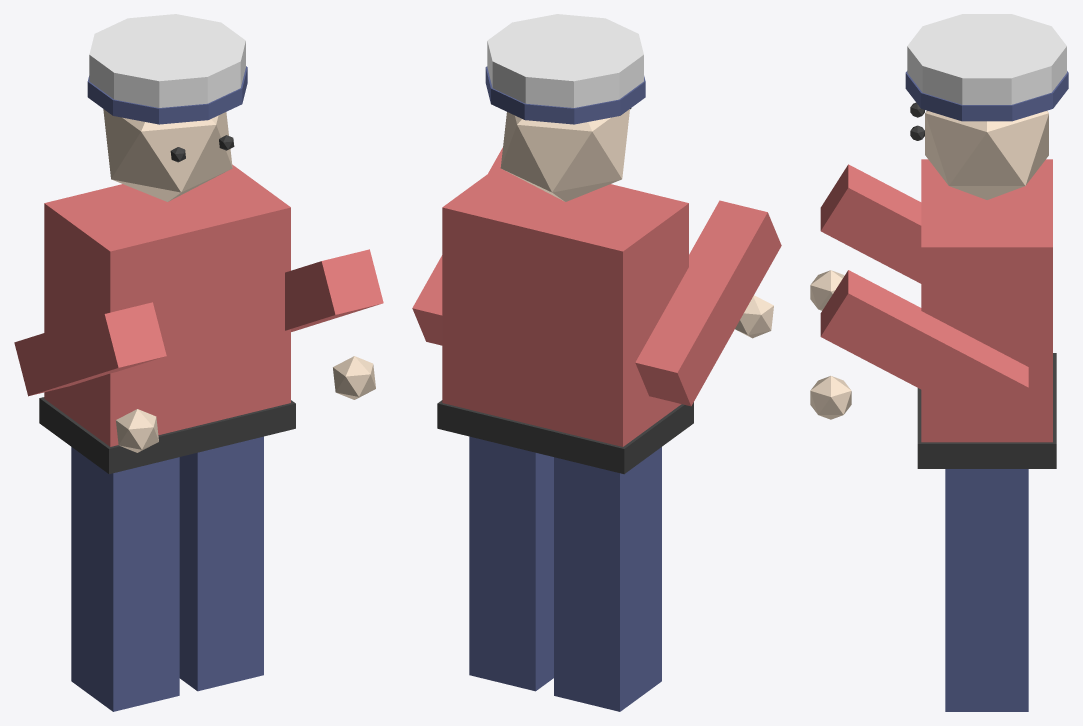
The model's file is Sailor.fbx.
The picture shows the model from 3 angles, left to right: view 1: azimuth 30°, elevation 25°; view 2: azimuth 150°, elevation 25°; view 3: azimuth 270°, elevation 25°; orthographic projection.
Parts seen in each view (by area): view 1: Body; view 2: Body; view 3: Body.
Part boxes in pixels (x1,y1,x2,y2): Body: (14, 14, 383, 711); Body: (412, 14, 781, 711); Body: (810, 14, 1068, 711).
Size of the model in its own units: 0.88 by 2 by 0.7445.
